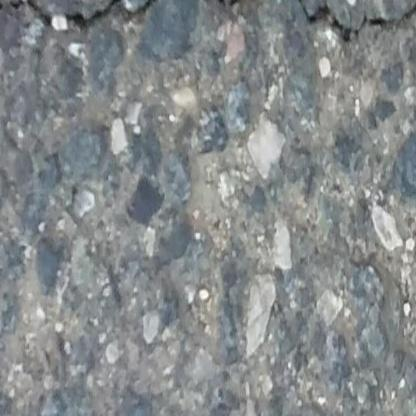Cracks: (273, 0, 416, 43), (0, 0, 172, 34), (180, 0, 259, 8)
